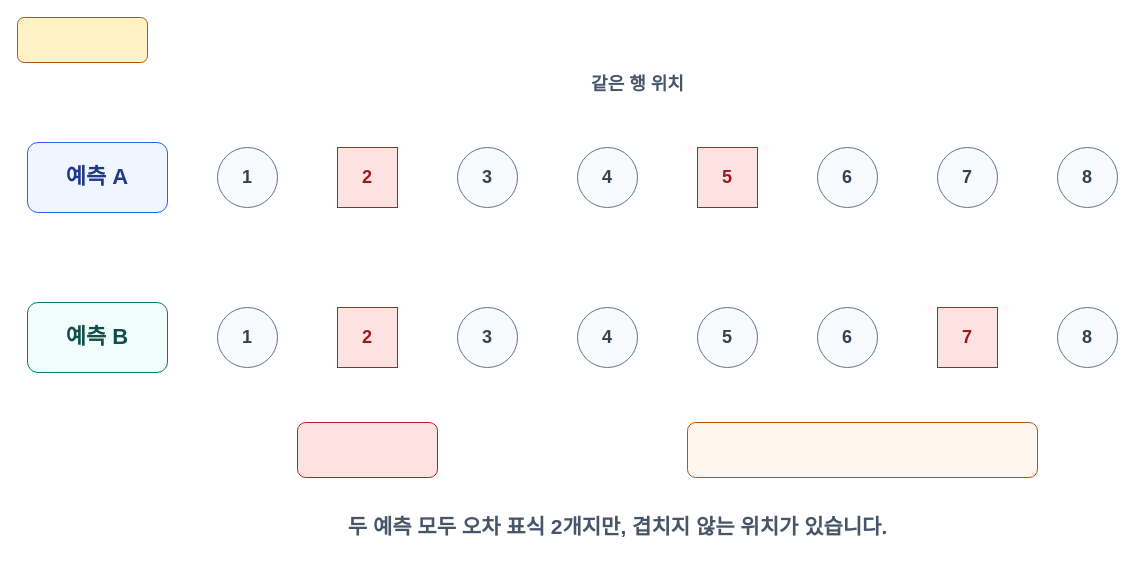
This 1135x575 diagram has some shape labels left out. The centre of each missing label's shape, as x and y in pixels:
"개념 예시" goes at pixel 82 39.
"겹치는 오차" goes at pixel 367 450.
"서로 다른 오차" goes at pixel 862 450.
